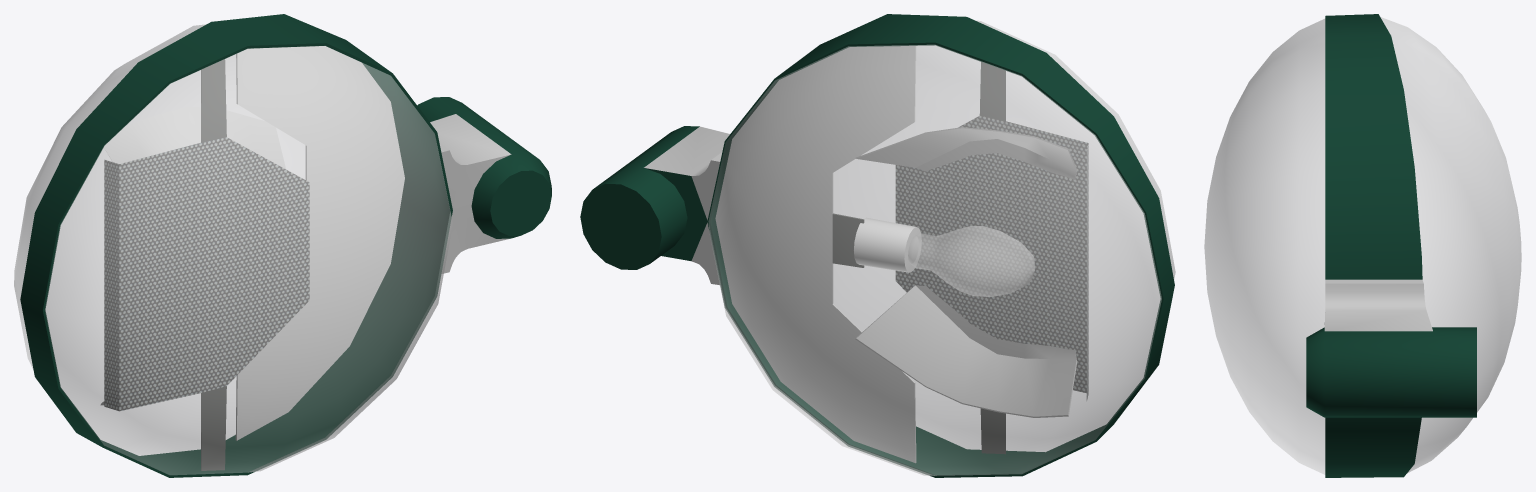
The picture shows the model from 3 angles, left to right: view 1: azimuth 30°, elevation 25°; view 2: azimuth 150°, elevation 25°; view 3: azimuth 270°, elevation 25°; orthographic projection. The views are drawn at different scales.
Visible parts, largest first — view 1: Glas_oben, Blech_oben, BezierCurve.001, Blech_unten, Glas_unten, Cylinder, BezierCurve.007; view 2: Glas_unten, Blech_unten, Glas_oben, Blech_oben, BezierCurve.001, BezierCurve.007, Cylinder, Gluehbirne.001; view 3: Glas_oben, Glas_unten, BezierCurve.001, Cylinder.
Boxes of the visible parts, x1,y1,x2,y2 form: Glas_oben: [45, 46, 452, 474]; Blech_oben: [104, 59, 309, 470]; BezierCurve.001: [20, 14, 452, 477]; Blech_unten: [235, 46, 404, 440]; Glas_unten: [14, 24, 305, 455]; Cylinder: [417, 97, 551, 273]; BezierCurve.007: [101, 107, 285, 405]; Glas_unten: [708, 45, 1161, 475]; Blech_unten: [715, 46, 916, 462]; Glas_oben: [833, 20, 1175, 451]; Blech_oben: [895, 62, 1088, 454]; BezierCurve.001: [707, 14, 1174, 477]; BezierCurve.007: [855, 127, 1076, 417]; Cylinder: [580, 126, 729, 285]; Gluehbirne.001: [854, 217, 1034, 296]; Glas_oben: [1204, 19, 1325, 474]; Glas_unten: [1380, 17, 1521, 473]; BezierCurve.001: [1325, 14, 1422, 477]; Cylinder: [1306, 279, 1476, 417].
Bounding box in the file's own units: 0.5765 × 0.4598 × 0.3154.
